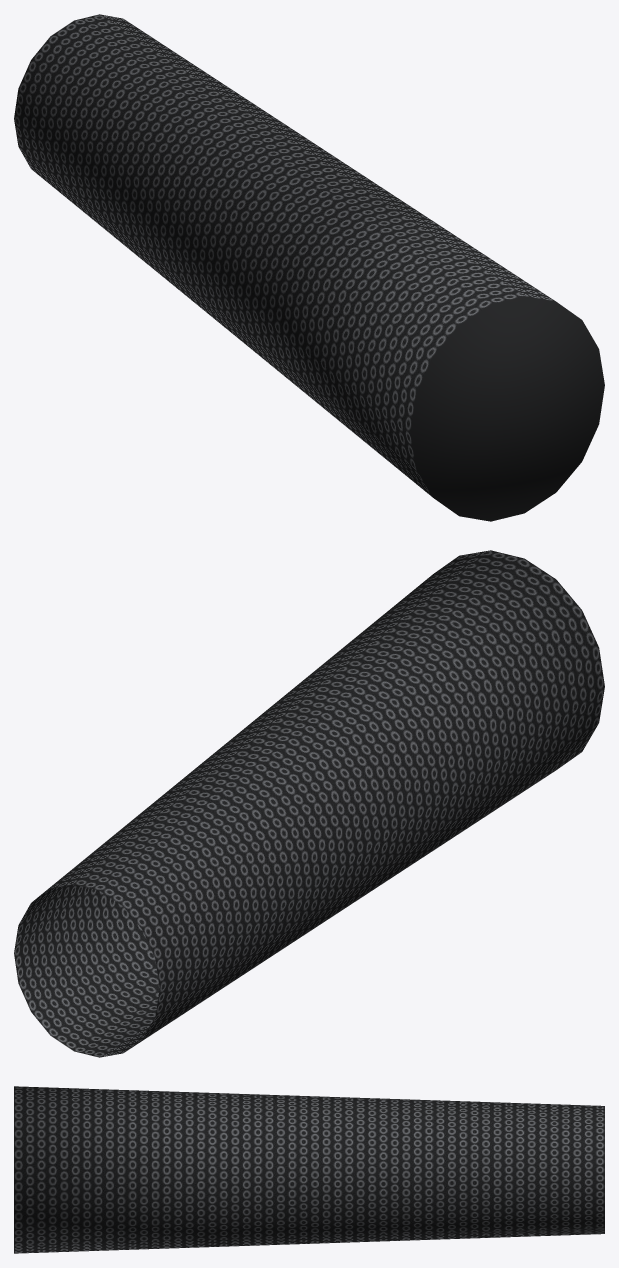
File: fp_upper.glb
3 renders of one model, top to bottom at view 1: azimuth 30°, elevation 25°; view 2: azimuth 150°, elevation 25°; view 3: azimuth 270°, elevation 25°, orthographic. The views are drawn at different scales.
Visible parts, largest first — view 1: fp_upper; view 2: fp_upper; view 3: fp_upper.
Boxes of the visible parts, x1,y1,x2,y2 form: fp_upper: [14, 14, 604, 521]; fp_upper: [14, 550, 604, 1057]; fp_upper: [14, 1086, 604, 1253].
Bounding box in the file's own units: 0.096 × 0.1024 × 0.36.
1 material, 1 textured.
